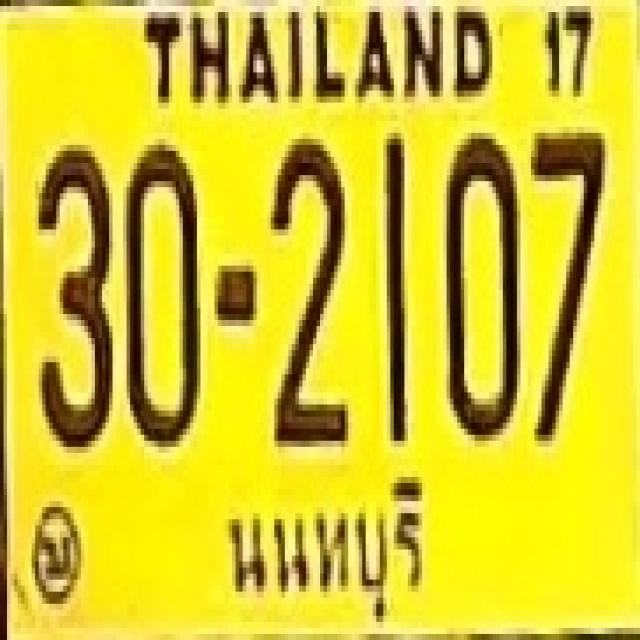0: (443, 130, 517, 438), (125, 139, 199, 441)
1: (384, 130, 404, 444)
2: (269, 133, 343, 441)
3: (35, 142, 113, 444)
7: (529, 127, 603, 435)
NBI: (212, 467, 441, 628)
